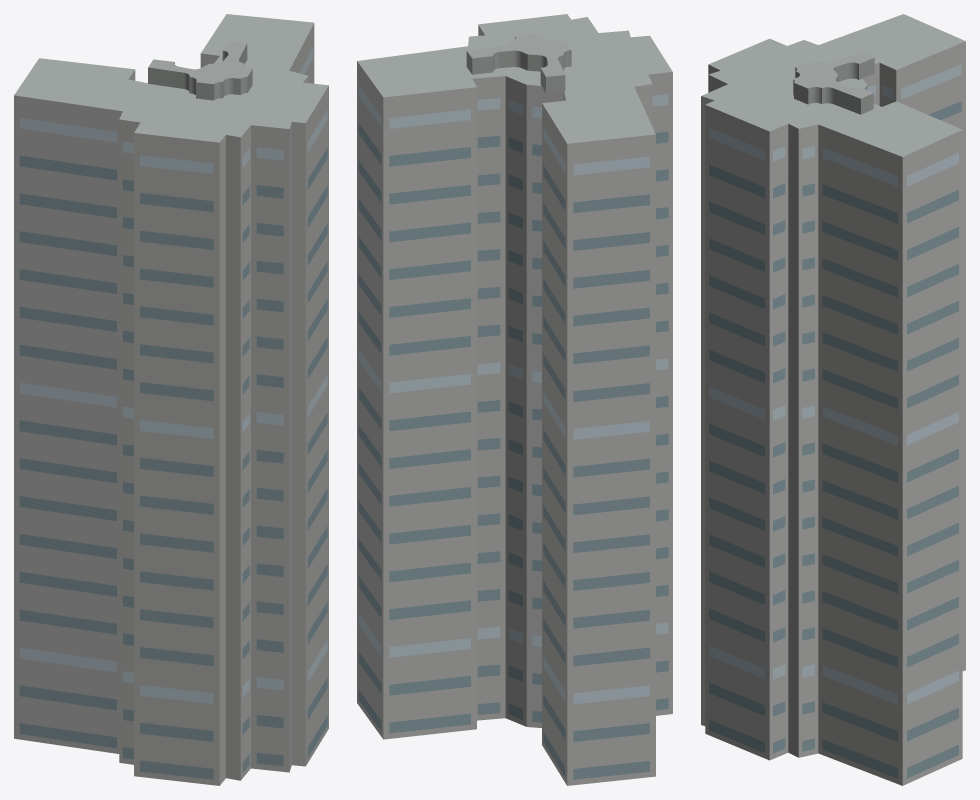
Rendered from fallback-gangdong-lotte-castle-first-128.glb.
The picture shows the model from 3 angles, left to right: view 1: azimuth 30°, elevation 25°; view 2: azimuth 150°, elevation 25°; view 3: azimuth 270°, elevation 25°; orthographic projection. The views are drawn at different scales.
Parts seen in each view (by area): view 1: fallback-gangdong-lotte-castle-first-128; view 2: fallback-gangdong-lotte-castle-first-128; view 3: fallback-gangdong-lotte-castle-first-128.
Part boxes in pixels (box(x1,y1,x2,y2)): fallback-gangdong-lotte-castle-first-128: box(14, 14, 328, 785); fallback-gangdong-lotte-castle-first-128: box(357, 14, 672, 785); fallback-gangdong-lotte-castle-first-128: box(701, 14, 965, 785).
Size of the model in its own units: 46.14 by 97 by 36.09.
